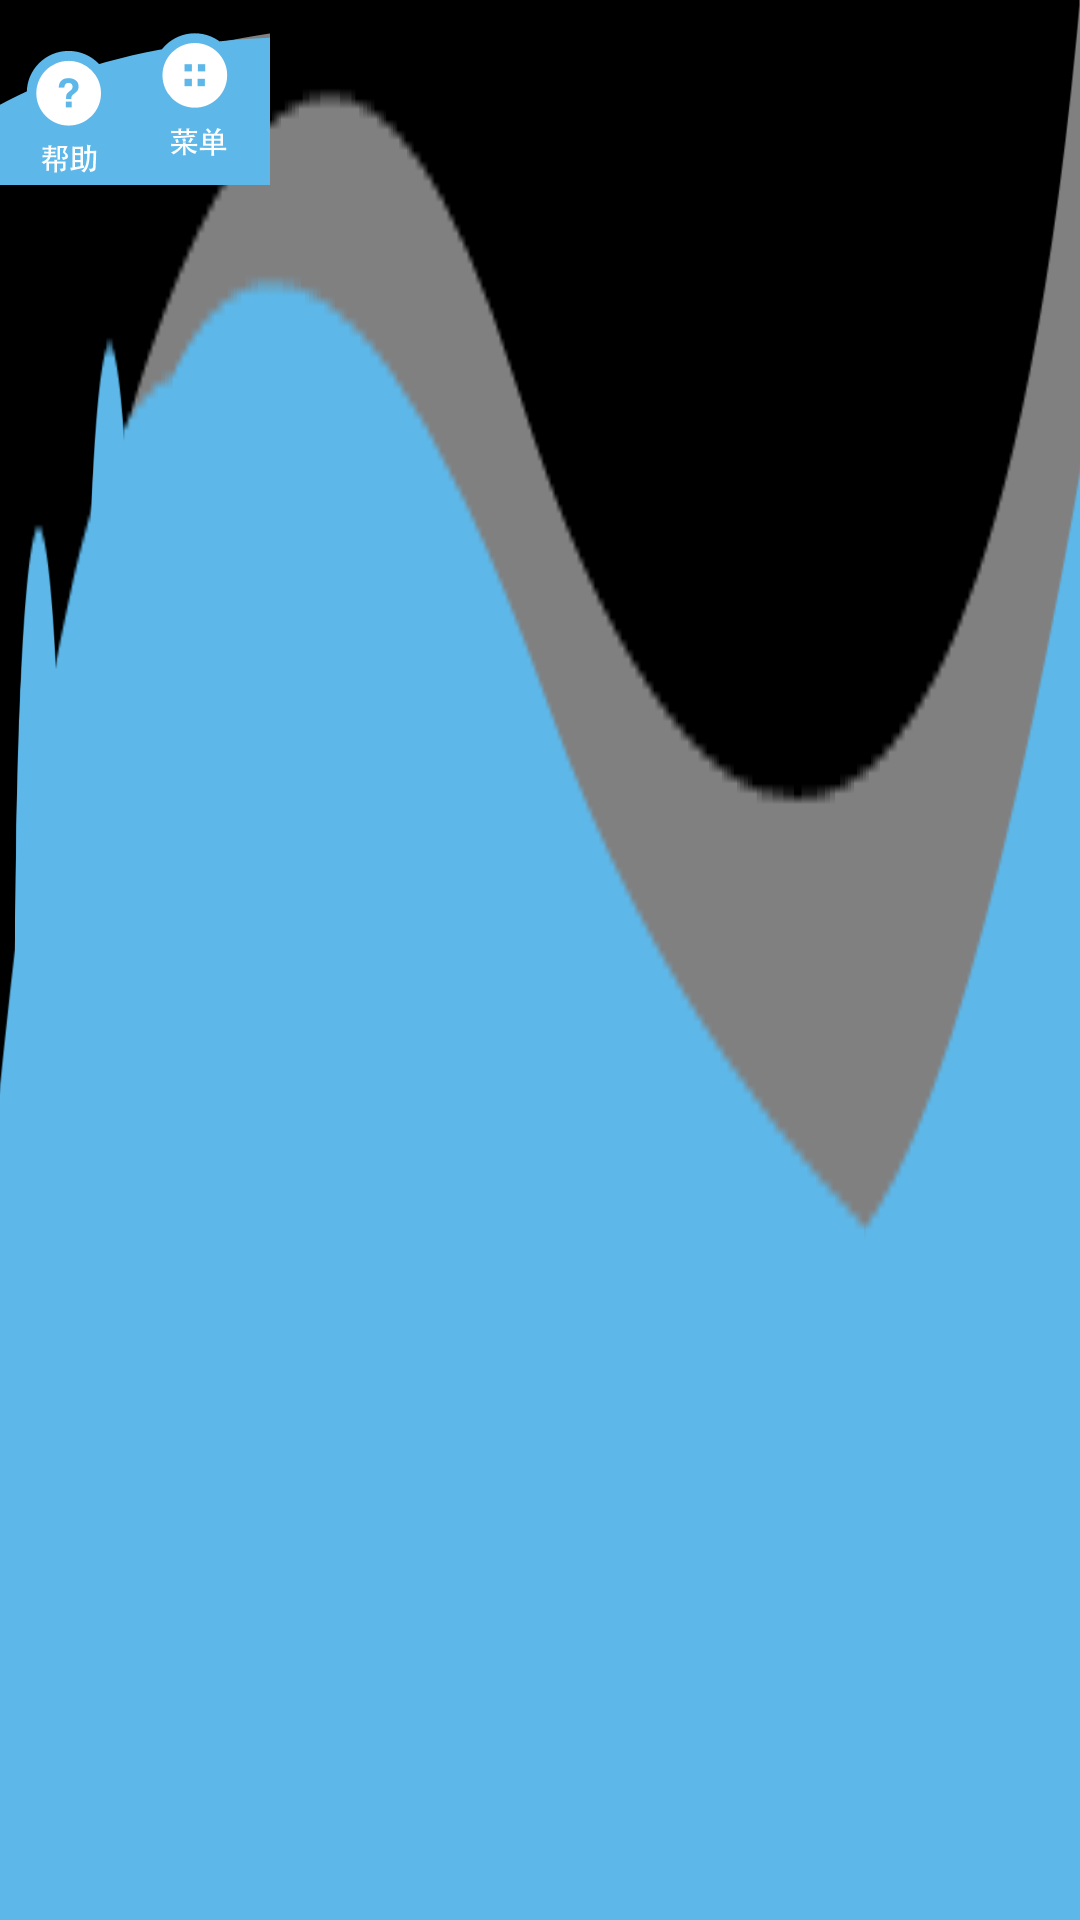

Where to tap for icons on this 1080 × 1920 app screen, as (x,y):
voice bar home: (202,92)
